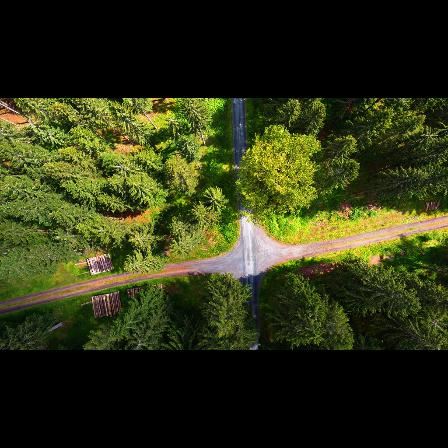Sick: (424, 312, 448, 335), (160, 112, 184, 133)
